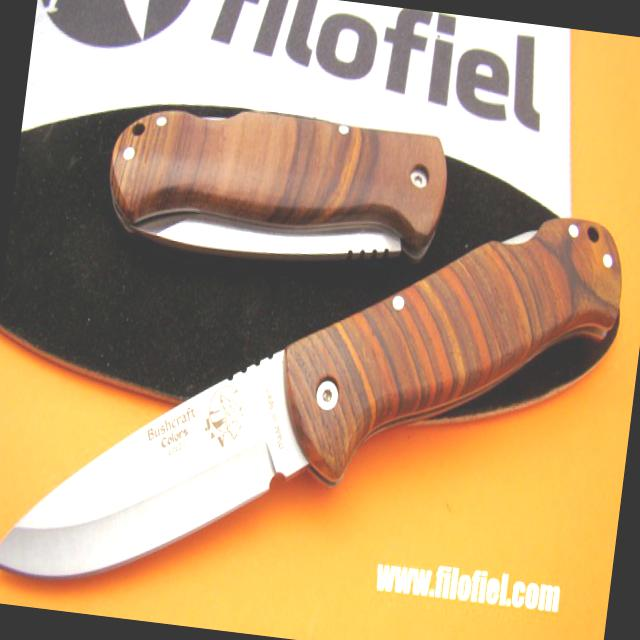knife: (0, 305, 338, 627)
